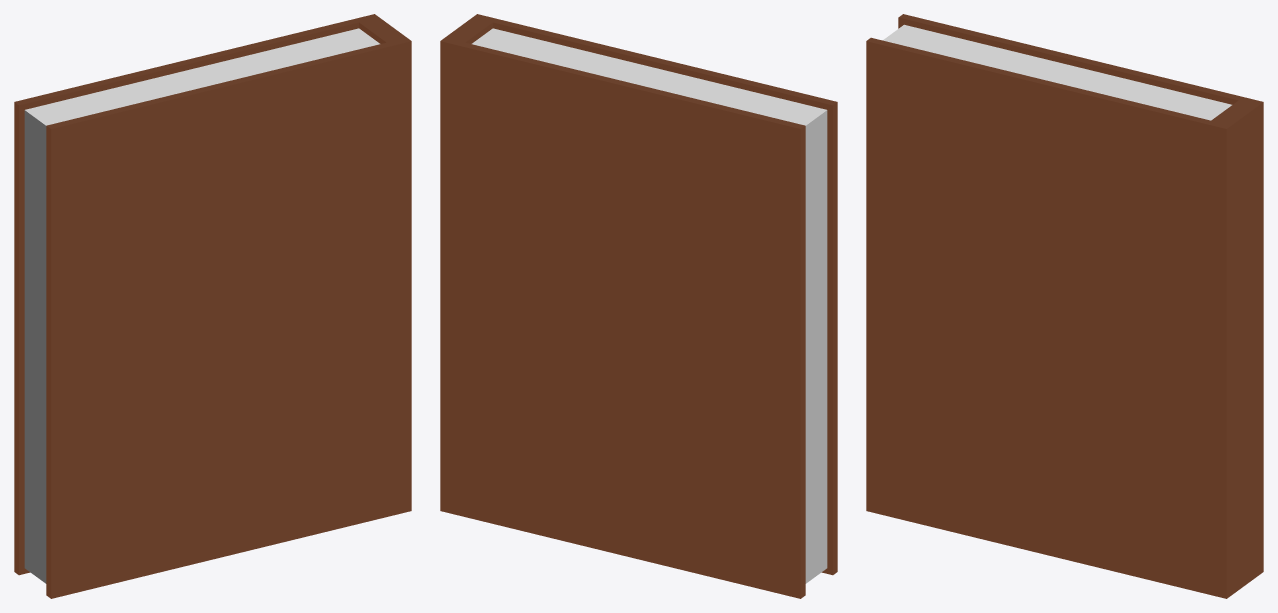
The model's file is livre_1.fbx.
The picture shows the model from 3 angles, left to right: view 1: azimuth 30°, elevation 25°; view 2: azimuth 150°, elevation 25°; view 3: azimuth 330°, elevation 25°; orthographic projection.
Parts seen in each view (by area): view 1: Livre; view 2: Livre; view 3: Livre.
Part boxes in pixels (left/top/right/bottom): Livre: left=14, top=14, right=411, bottom=598; Livre: left=440, top=14, right=837, bottom=598; Livre: left=866, top=14, right=1263, bottom=598.
Size of the model in its own units: 38.25 by 47.63 by 6.81.
